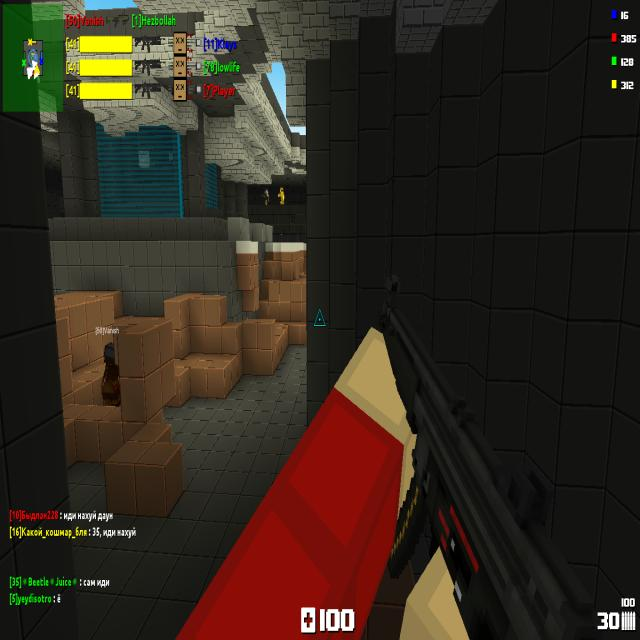enemy: (262, 188, 269, 205), (278, 187, 284, 205)
